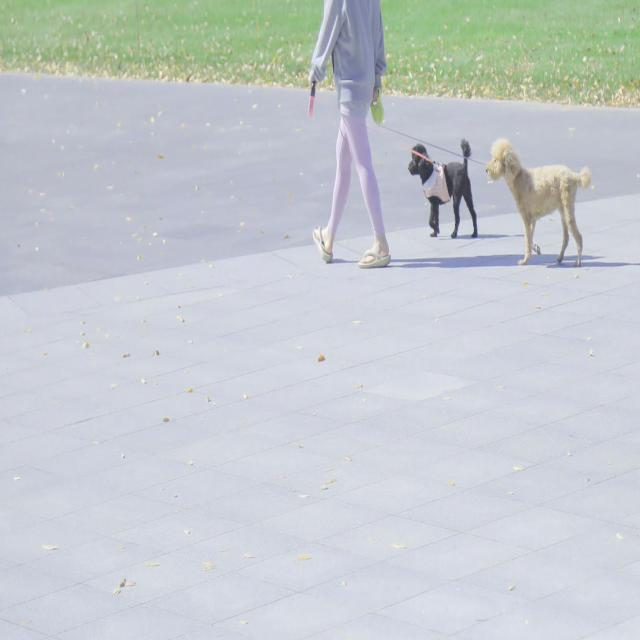Leashed_Dog: (360, 94, 590, 265), (352, 117, 477, 239)
